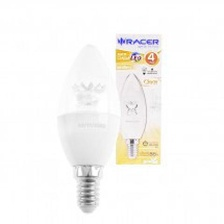carton: (113, 30, 165, 171)
light_bulb: (50, 41, 127, 219)
